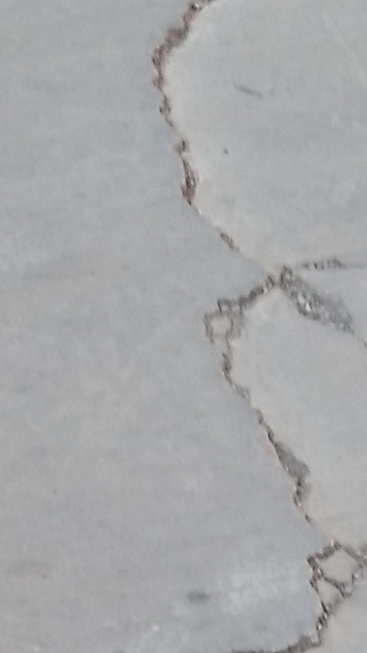A: (136, 1, 361, 649)
